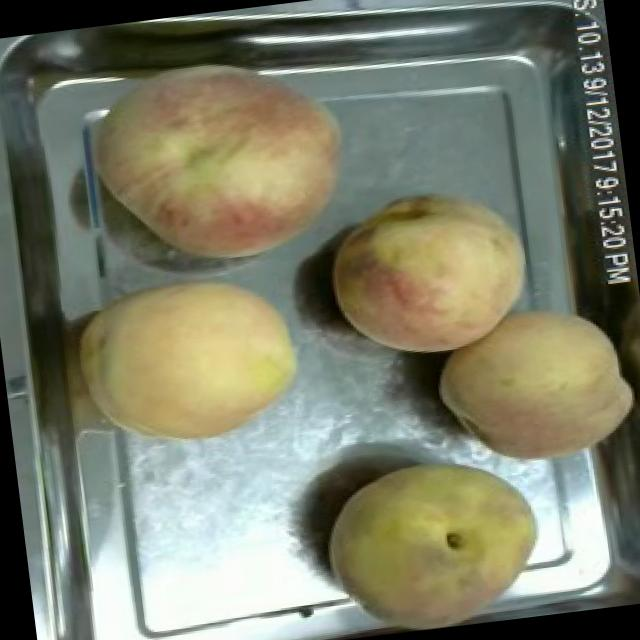Fruit: (73, 28, 367, 286), (59, 245, 317, 464), (308, 436, 558, 640), (315, 174, 546, 372), (418, 283, 640, 484)
